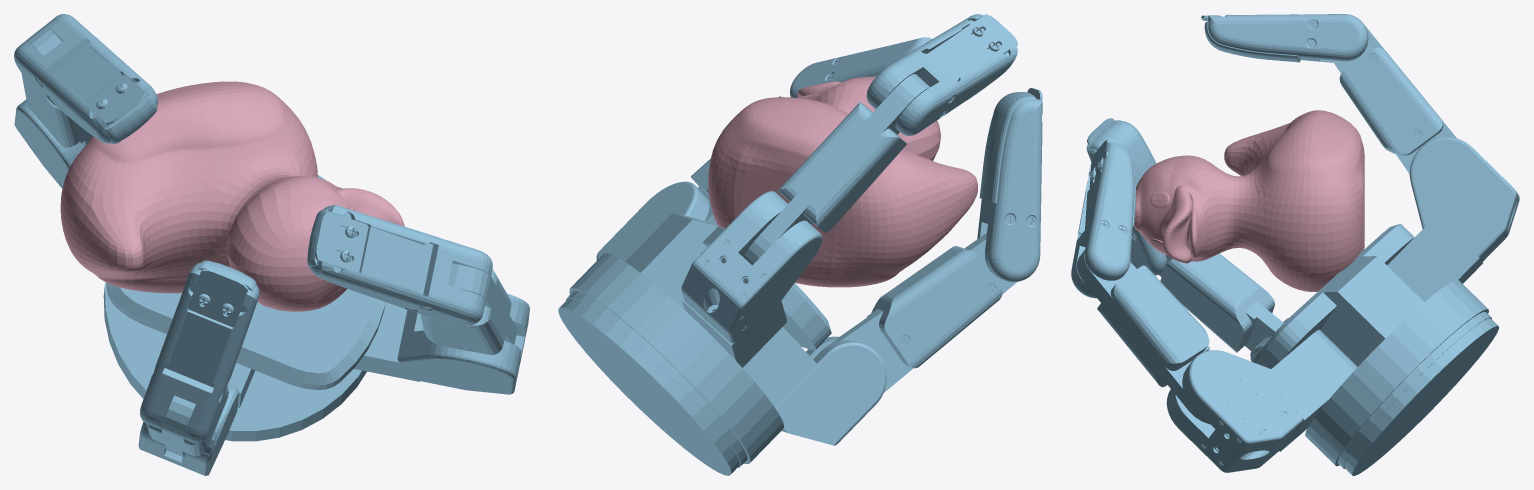
3 views of the same model, side by side, from view 1: azimuth 30°, elevation 25°; view 2: azimuth 150°, elevation 25°; view 3: azimuth 270°, elevation 25° (orthographic). The views are drawn at different scales.
Parts seen in each view (by area): view 1: world, rubber_duck.stl; view 2: world, rubber_duck.stl; view 3: world, rubber_duck.stl.
Part boxes in pixels (x1,y1,x2,y2): world: [14, 14, 529, 475]; rubber_duck.stl: [60, 81, 404, 311]; world: [558, 14, 1042, 475]; rubber_duck.stl: [708, 76, 977, 287]; world: [1071, 14, 1519, 475]; rubber_duck.stl: [1134, 110, 1364, 291].
Bounding box in the file's own units: 0.1642 × 0.1685 × 0.1822.
